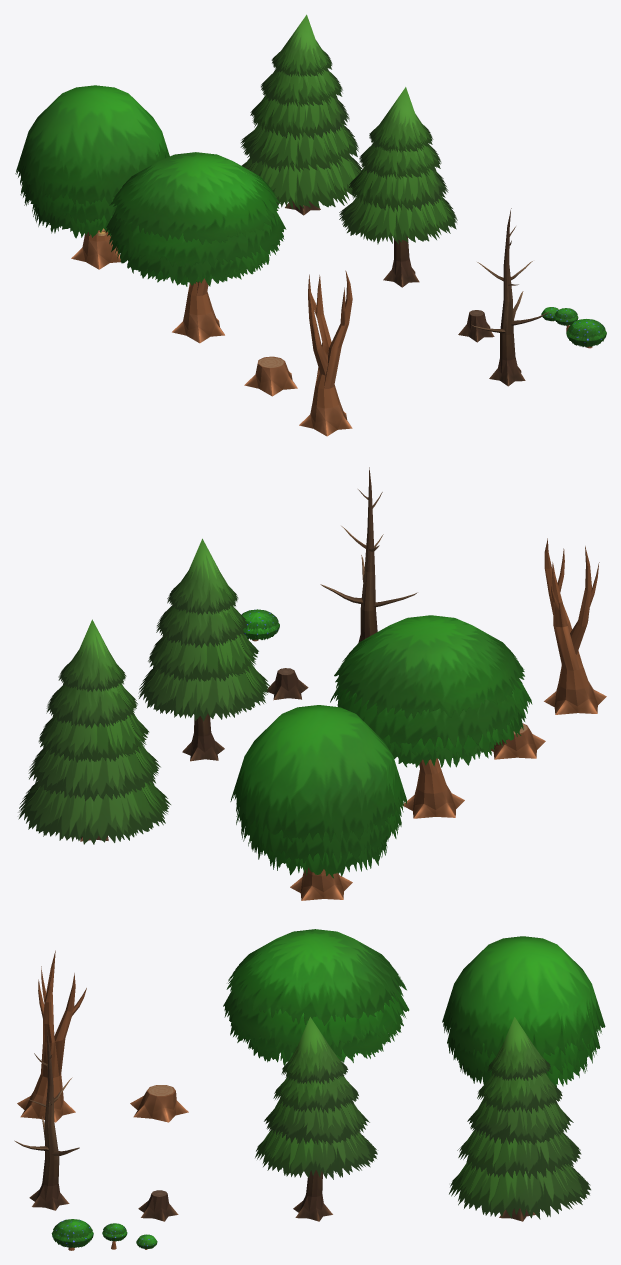
File: pack_arvores (1).fbx
3 renders of one model, top to bottom at view 1: azimuth 30°, elevation 25°; view 2: azimuth 150°, elevation 25°; view 3: azimuth 270°, elevation 25°, orthographic. The views are drawn at different scales.
Parts seen in each view (by area): view 1: copa_jovem, copa_velha, pinheiro_velho, pinheiro_jovem, copa_seca, pinheiro_seco, copa_tronco, arbusto3, pinheiro_tronco; view 2: copa_velha, copa_jovem, pinheiro_velho, pinheiro_jovem, copa_seca, pinheiro_seco, copa_tronco, arbusto3, pinheiro_tronco; view 3: copa_jovem, copa_velha, pinheiro_velho, pinheiro_jovem, copa_seca, pinheiro_seco, copa_tronco, arbusto3, pinheiro_tronco.
Part boxes in pixels (box(x1,y1,x2,y2)): copa_jovem: box(104, 152, 286, 343); copa_velha: box(15, 85, 169, 269); pinheiro_velho: box(240, 14, 362, 215); pinheiro_jovem: box(339, 87, 457, 287); copa_seca: box(299, 270, 352, 436); pinheiro_seco: box(472, 208, 549, 386); copa_tronco: box(244, 356, 297, 396); arbusto3: box(566, 319, 606, 348); pinheiro_tronco: box(458, 310, 494, 342); copa_velha: box(230, 705, 406, 900); copa_jovem: box(330, 615, 532, 818); pinheiro_velho: box(18, 619, 170, 844); pinheiro_jovem: box(138, 538, 270, 761); copa_seca: box(544, 538, 606, 714); pinheiro_seco: box(320, 467, 417, 652); copa_tronco: box(491, 723, 545, 759); arbusto3: box(241, 609, 279, 641); pinheiro_tronco: box(267, 668, 308, 700); copa_jovem: box(223, 929, 409, 1065); copa_velha: box(442, 936, 605, 1086); pinheiro_velho: box(449, 1017, 590, 1221); pinheiro_jovem: box(255, 1017, 377, 1221); copa_seca: box(17, 950, 86, 1122); pinheiro_seco: box(14, 1030, 79, 1210); copa_tronco: box(130, 1085, 188, 1122); arbusto3: box(51, 1219, 93, 1250); pinheiro_tronco: box(138, 1190, 178, 1221).
Bounding box in the file's own units: 1516 × 748 × 2024.
